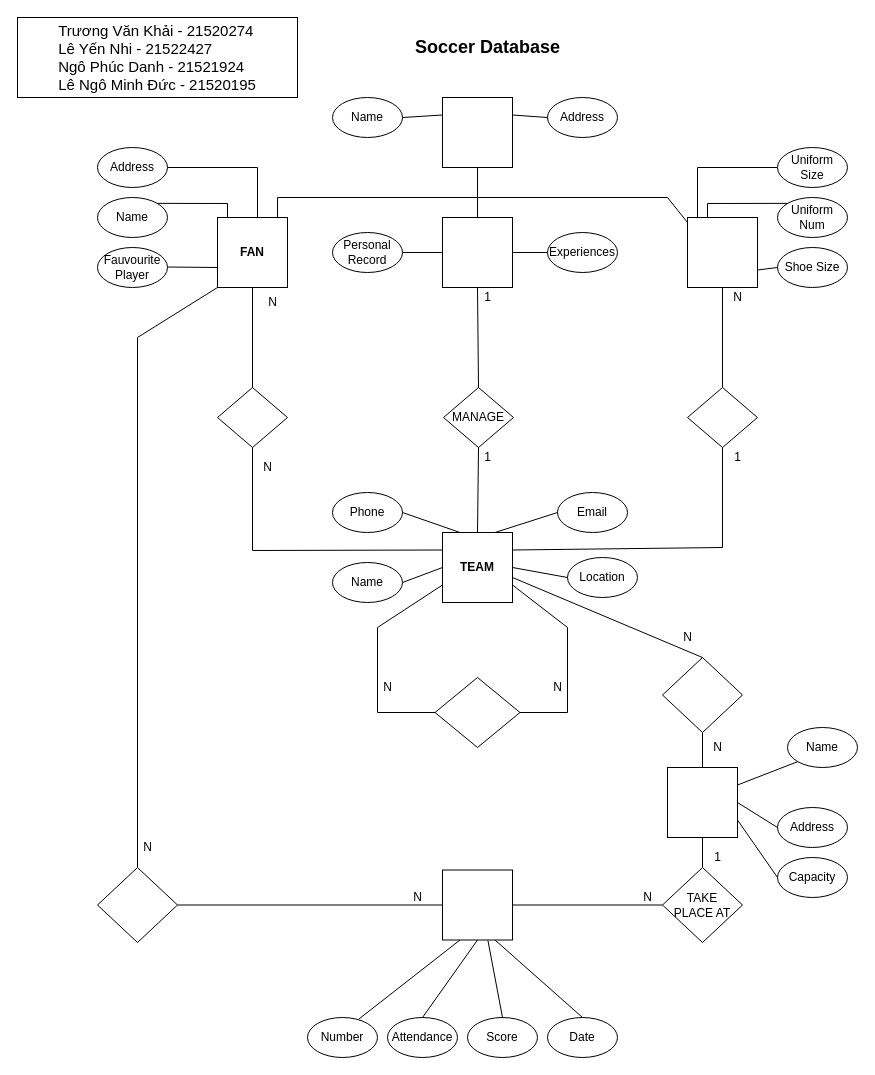
The diagram is 875 pixels wide and 1075 high, and some of its shapes have lost their labels. The box of each missing label's shape, as (x1, y1, x2, y2) in pixels:
ATTEND: (96, 866, 178, 942)
COACH: (442, 216, 512, 288)
GAME: (442, 869, 512, 940)
PERSON: (442, 96, 512, 168)
PLAY AGANIST: (434, 676, 520, 748)
PLAY FOR: (686, 386, 758, 448)
PLAYER: (686, 216, 758, 288)
PRACTICE: (662, 656, 742, 732)
STADIUM: (666, 766, 738, 838)
SUPPORT: (216, 386, 288, 448)
